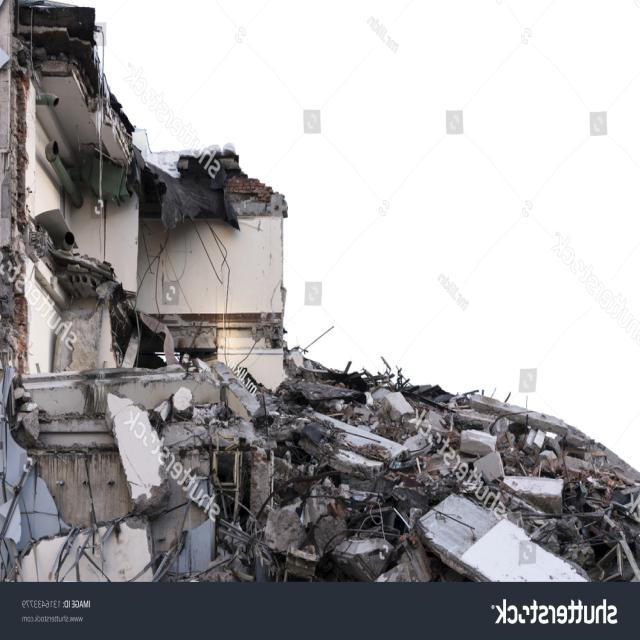Destroyed_building: (0, 1, 635, 577)
